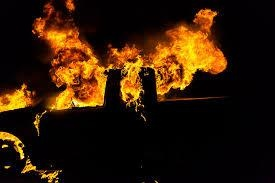fire: (30, 3, 228, 113)
